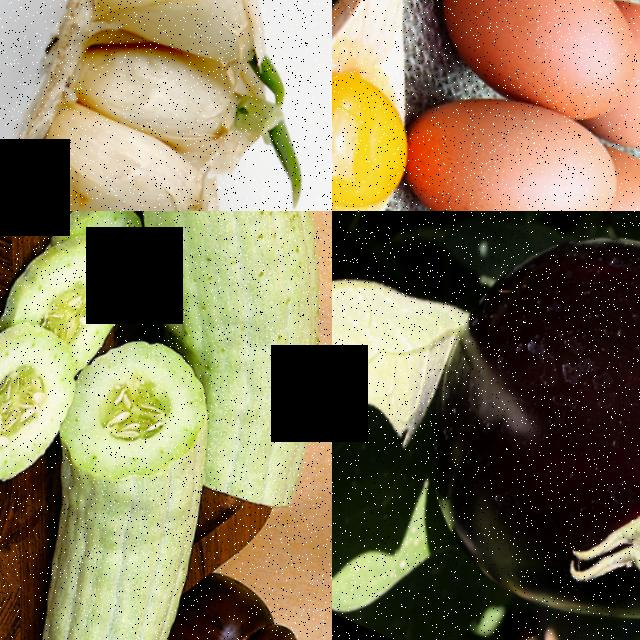cucumber: (1, 429, 236, 640)
egg_: (395, 55, 633, 211), (413, 0, 640, 129), (332, 56, 434, 211), (575, 134, 640, 211), (612, 0, 640, 156)
eggplant: (383, 211, 640, 640)
garlic: (0, 0, 317, 211)
